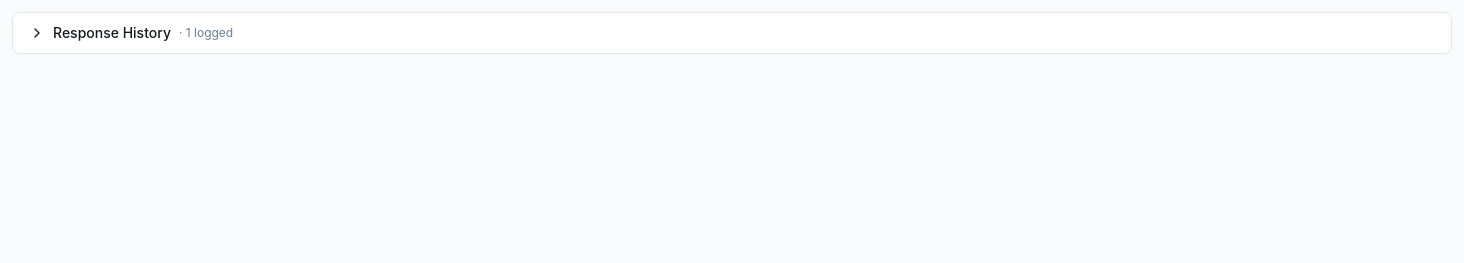
ResponseHistoryPanel — no context required › renders from a plain records array
Step 1. Click the button "Response History · 1 logged" → (112, 32), box top-left (13, 13), bottom-right (1451, 53)
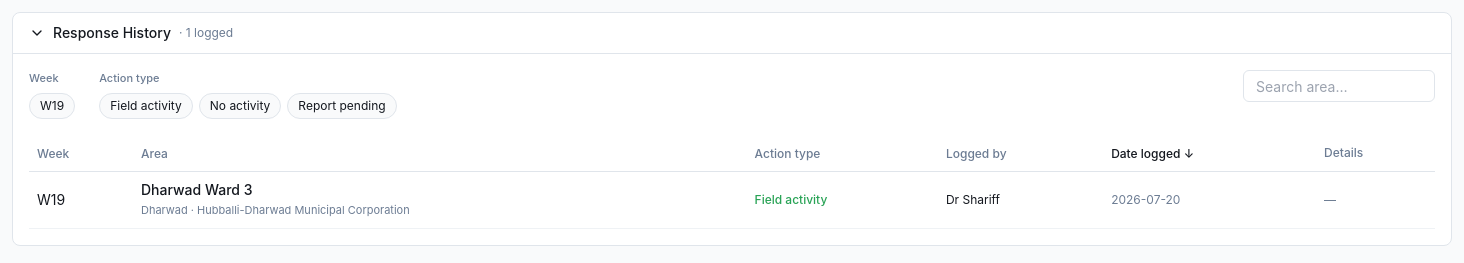
Check: the table is shown, box top-left (29, 134), bottom-right (1435, 228)
